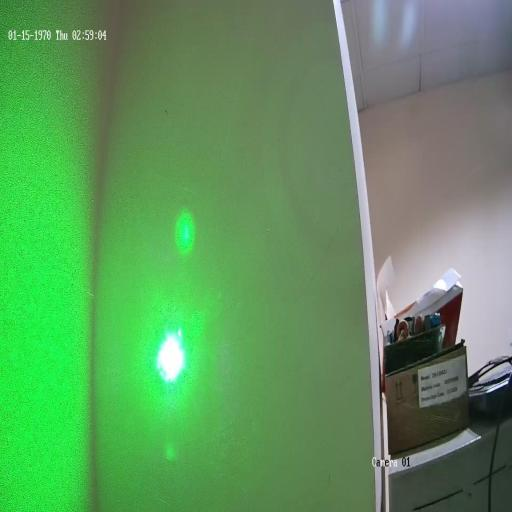laser: (146, 310, 196, 402)
